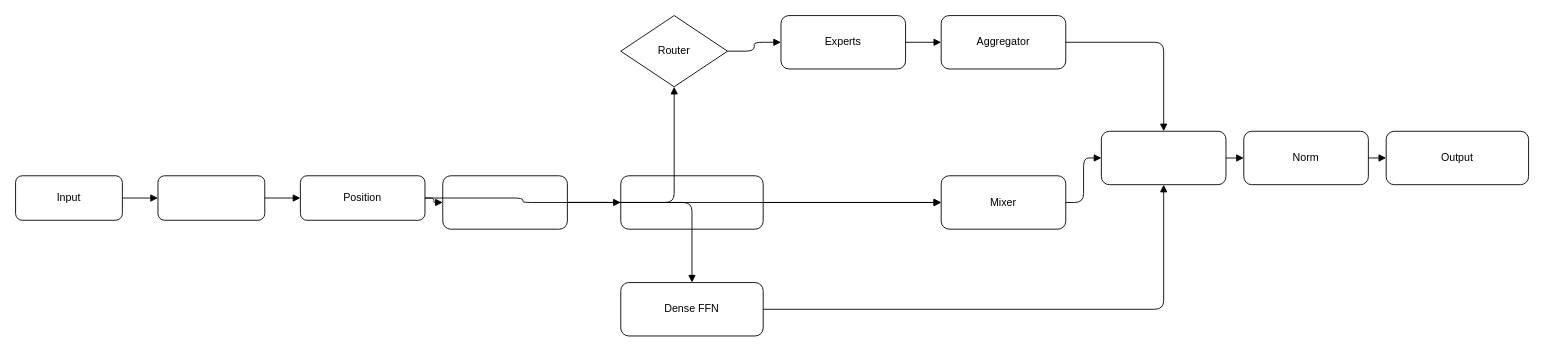
This 1544x352 diagram has some shape labels left out. Each missing label, with the centre of its shape:
"Attention" goes at pixel 504 202.
"Embedding" goes at pixel 211 197.
"Hybrid Path" goes at pixel 691 202.
"Residual" goes at pixel 1163 157.
